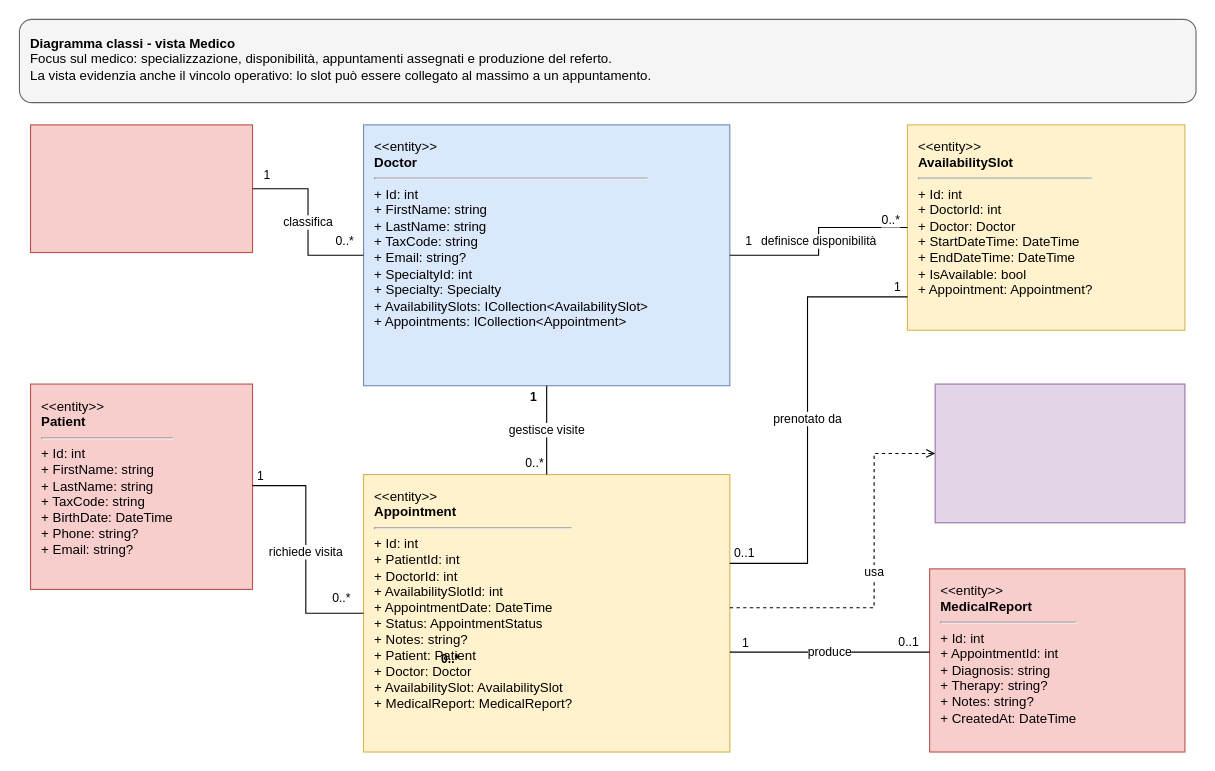
Image size: 1215x771. Some labels were removed from this diagram. The shapes that lost their labels are listed below. From the top down, each one's centre as x and y in pixels, then its label:
At point (141, 188): "<<entity>> Specialty + Id: int + Name: string + Doctors: ICollection<Doctor>".
At point (1059, 453): "<<enumeration>> AppointmentStatus Scheduled = 0 Completed = 1 Cancelled = 2".
